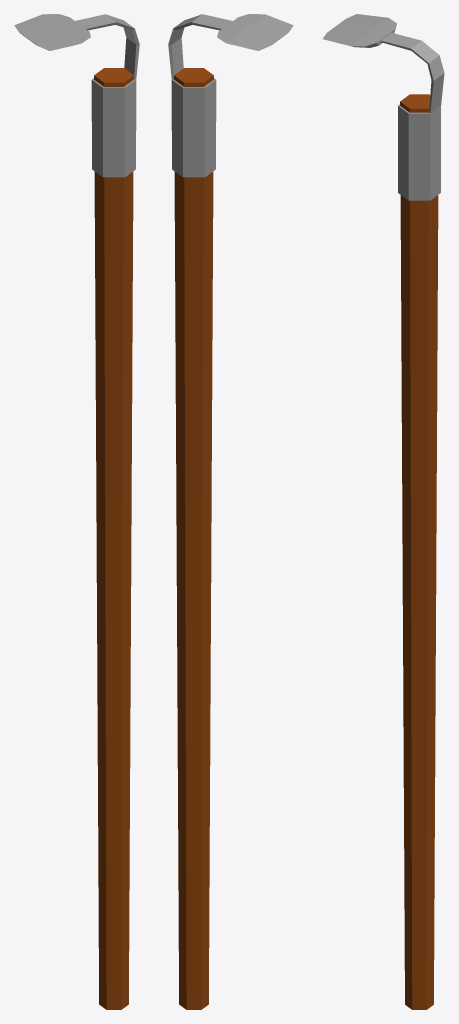
The model's file is Hoe.fbx.
3 renders of one model, left to right at view 1: azimuth 30°, elevation 25°; view 2: azimuth 150°, elevation 25°; view 3: azimuth 330°, elevation 25°, orthographic. The views are drawn at different scales.
Parts seen in each view (by area): view 1: Hoe; view 2: Hoe; view 3: Hoe.
Boxes of the visible parts, <box> form: Hoe: <box>14,14,139,1009</box>; Hoe: <box>168,14,293,1009</box>; Hoe: <box>323,14,444,1009</box>.
Bounding box in the file's own units: 611 × 5465 × 396.
